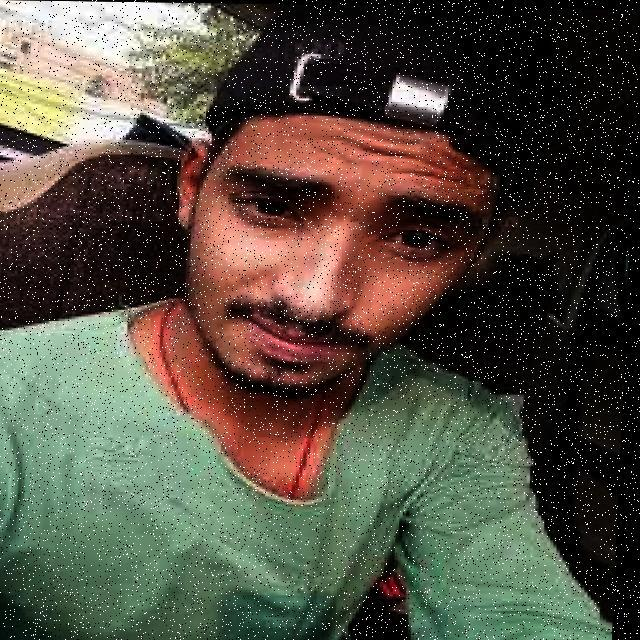noSeatbelt: (0, 285, 521, 640)
